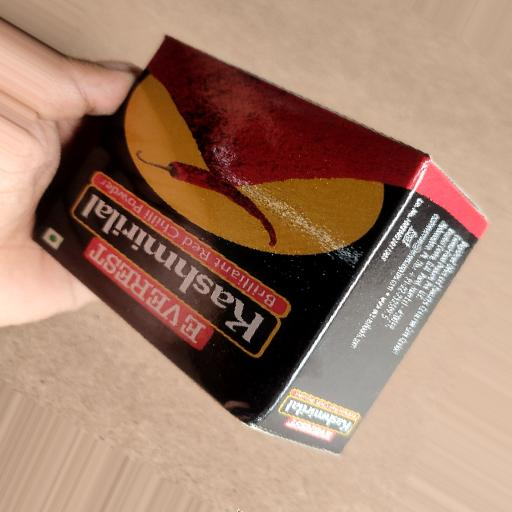Everest Kashmirilal: (16, 9, 503, 462)
